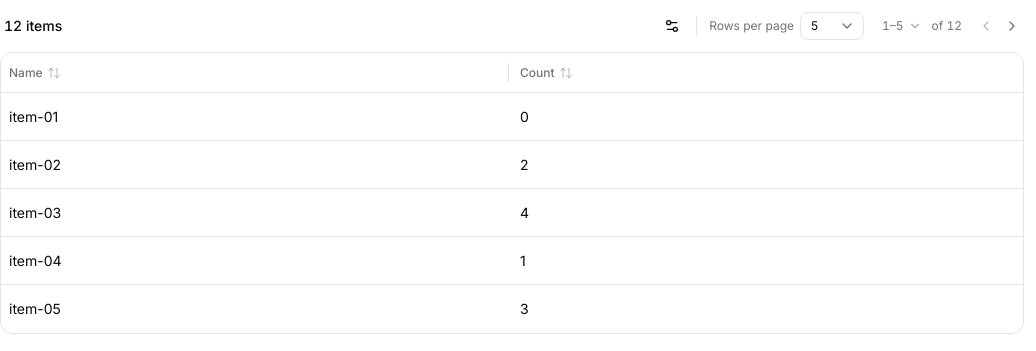
Test: DataTable › client mode › pages locally
The width and height of the screenshot is (1036, 351).
Expected: the text "12 items" is shown, x1=4 y1=16 x2=62 y2=36
Expected: the button named "Previous page" is disabled, x1=974 y1=14 x2=998 y2=38
Click the button named "Next page". click: (1012,26)
box: x1=1000 y1=14 x2=1024 y2=38
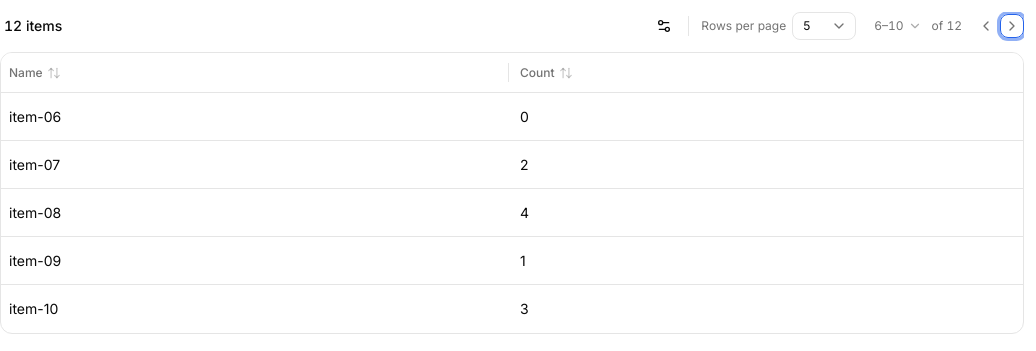
Click the button named "Next page". click: (1012,26)
box: x1=1000 y1=14 x2=1024 y2=38
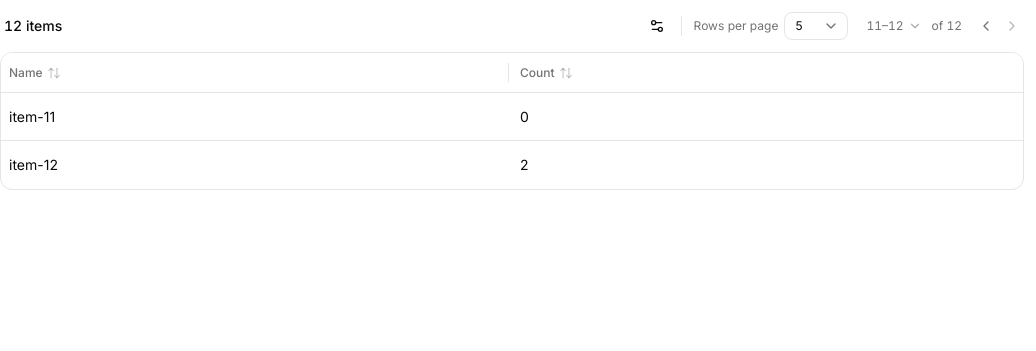
Now the button named "Next page" is disabled, box x1=1000 y1=14 x2=1024 y2=38
